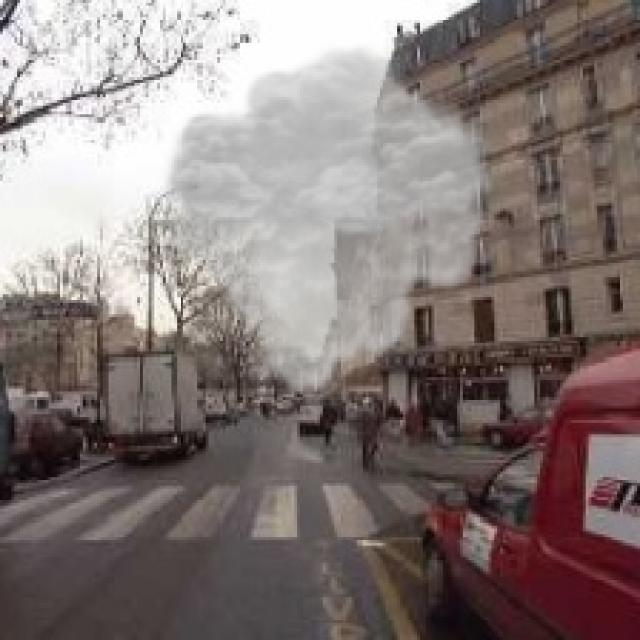smoke: (157, 43, 500, 400)
